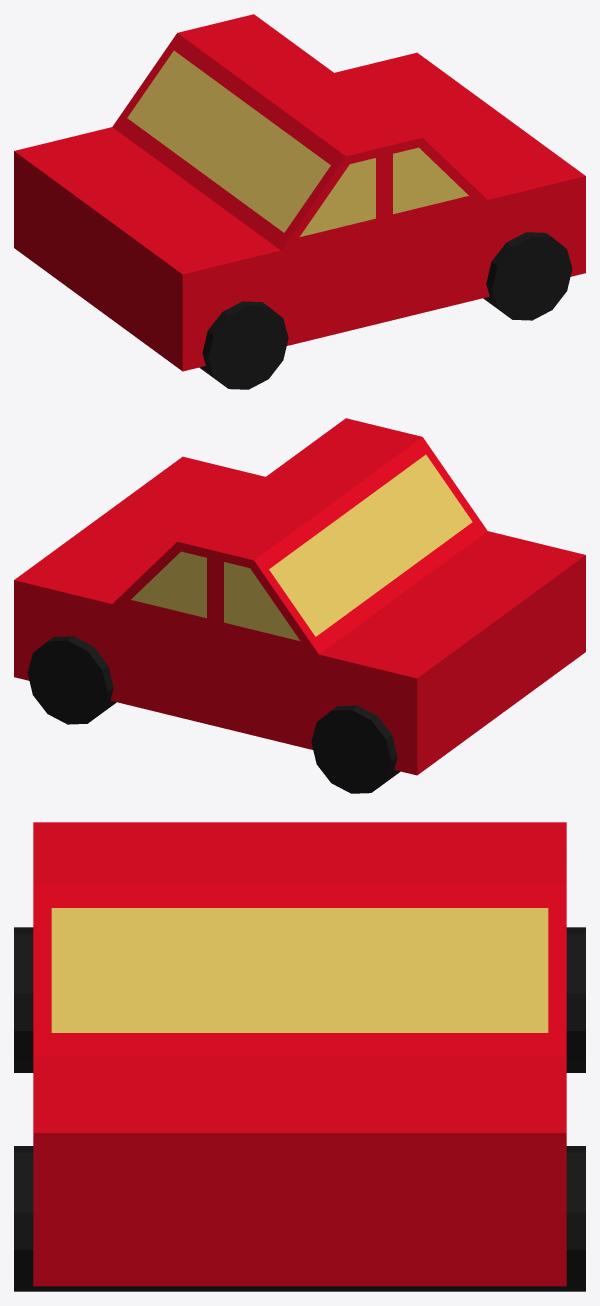
Rendered from car.glb.
3 views of the same model, one above another, from view 1: azimuth 30°, elevation 25°; view 2: azimuth 150°, elevation 25°; view 3: azimuth 270°, elevation 25° (orthographic). The views are drawn at different scales.
Parts seen in each view (by area): view 1: Car; view 2: Car; view 3: Car.
Part boxes in pixels (x1=…): Car: x1=14, y1=14, x2=585, y2=389; Car: x1=14, y1=418, x2=585, y2=793; Car: x1=14, y1=822, x2=585, y2=1291.
Bounding box in the file's own units: 0.6077 × 0.2932 × 0.4725.
